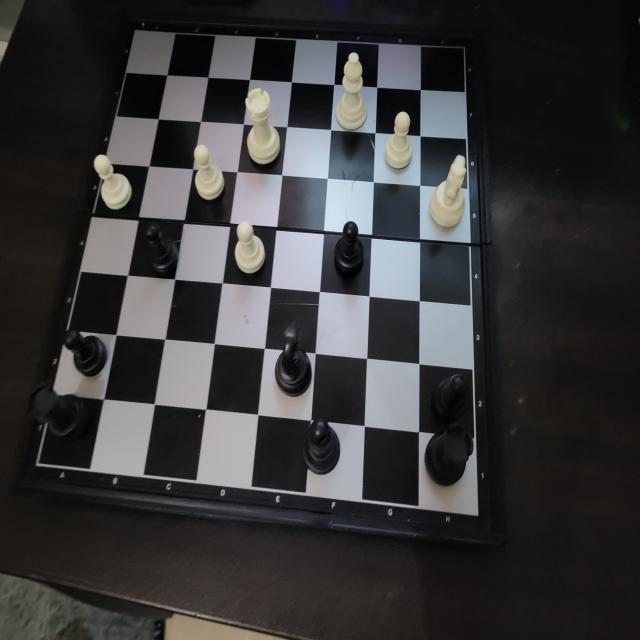black-knight: (274, 320, 314, 400)
black-pawn: (61, 326, 109, 377), (300, 419, 342, 477), (141, 220, 181, 275), (431, 371, 472, 422), (334, 220, 364, 278)
black-rook: (30, 384, 89, 441), (424, 423, 474, 487)
chess-board: (31, 15, 494, 548)
white-bishop: (335, 51, 369, 131)
white-knight: (428, 151, 468, 229)
white-pawn: (93, 151, 133, 211), (383, 107, 415, 173), (191, 144, 226, 204), (234, 220, 266, 276)
white-rook: (242, 84, 282, 169)
